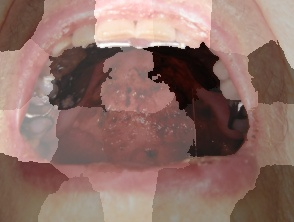SJS-TEN: (15, 39, 239, 178)
